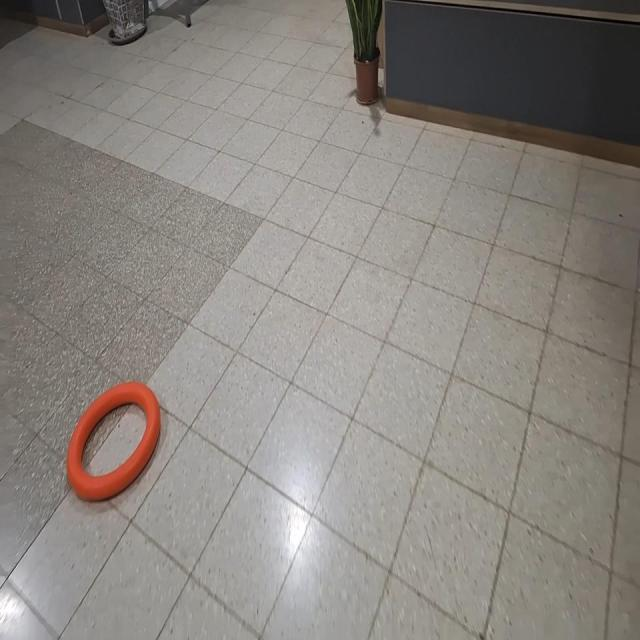note: (64, 378, 163, 501)
